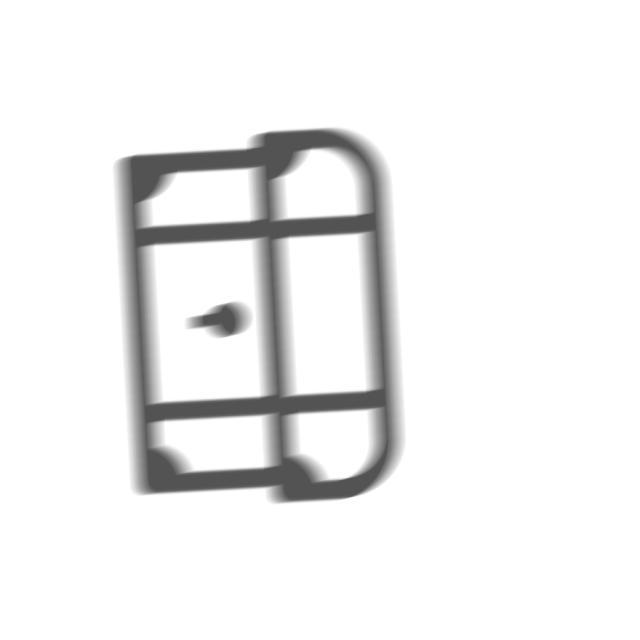treasure_box: (111, 126, 411, 513)
